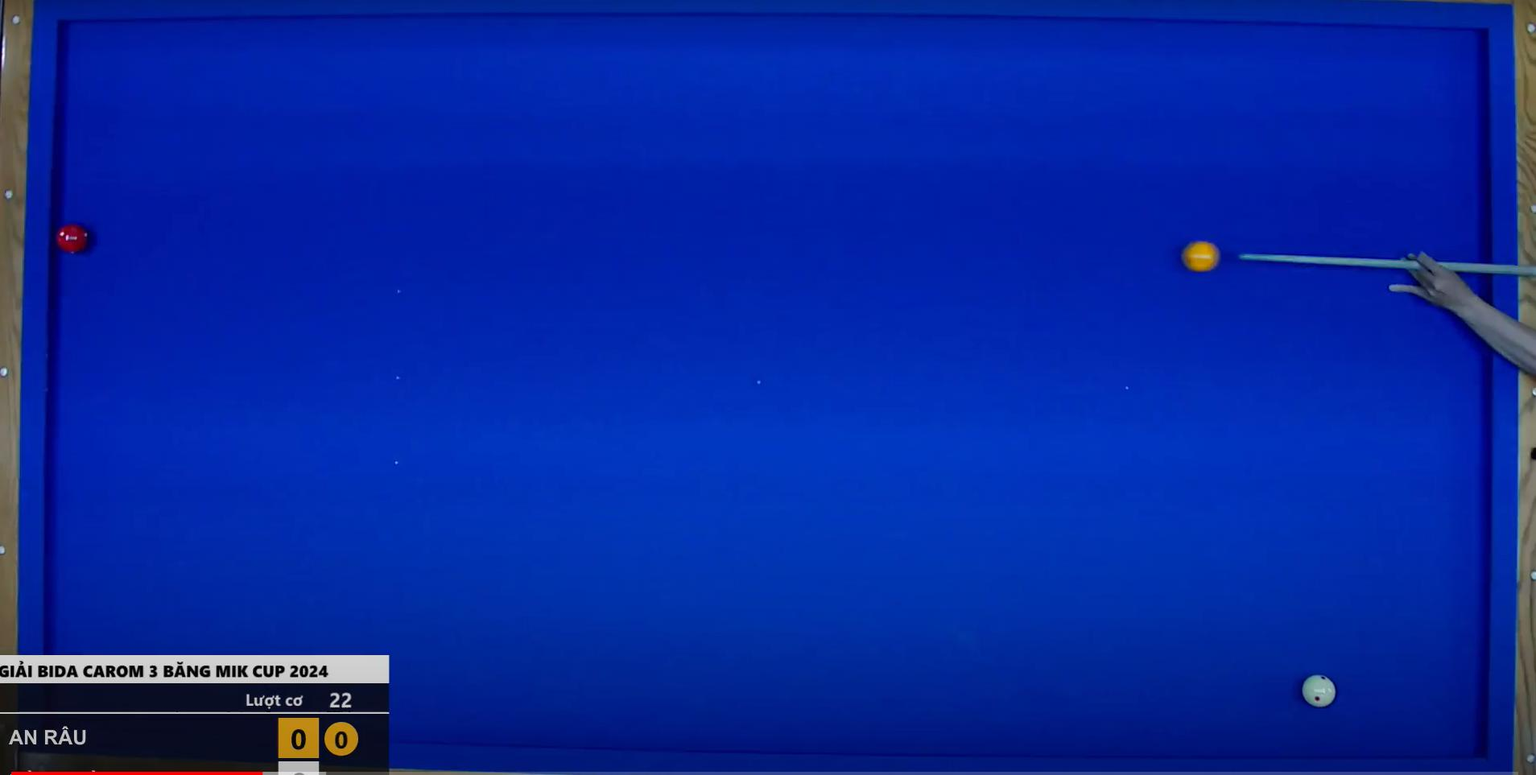red ball: (51, 216, 103, 264)
white ball: (1297, 665, 1342, 716)
yellow ball: (1173, 234, 1229, 281)
